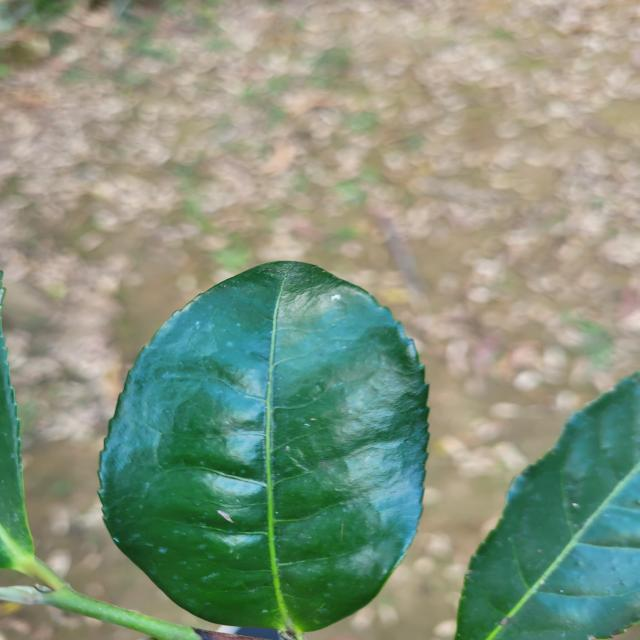Category D(7+ days, Not for Tea): (87, 240, 455, 640)
